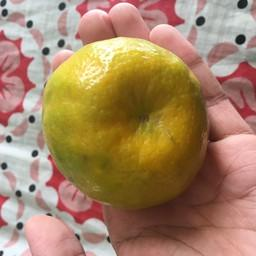Good_orange: (41, 37, 215, 210)
